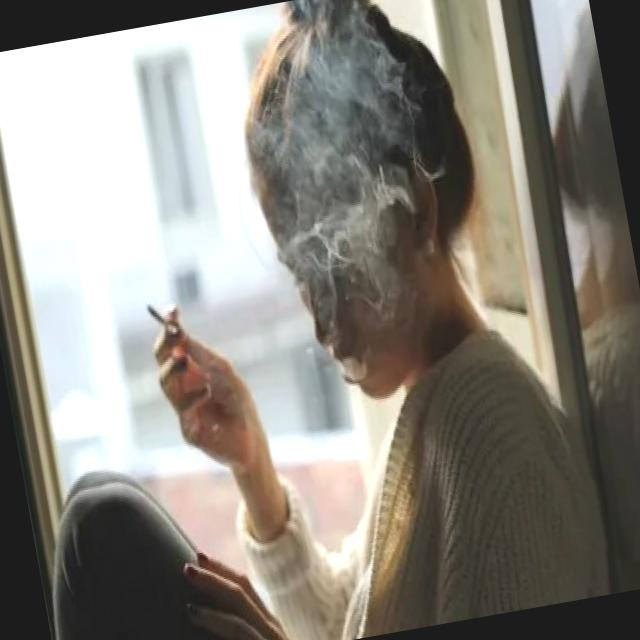smoke: (140, 294, 187, 344)
